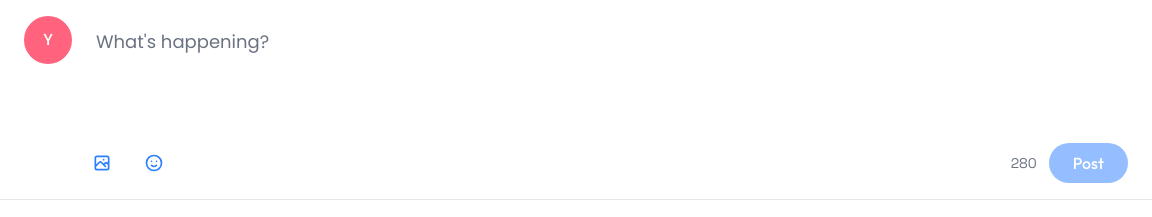
ComposePost Component › shows correct character count
The width and height of the screenshot is (1152, 217).
Check: the text "280" is shown, box x1=1011 y1=153 x2=1037 y2=173
Note: Type some text
In the text box with placeholder "What's happening?": (606, 70) x1=84 y1=16 x2=1128 y2=124, type "Hello world!"
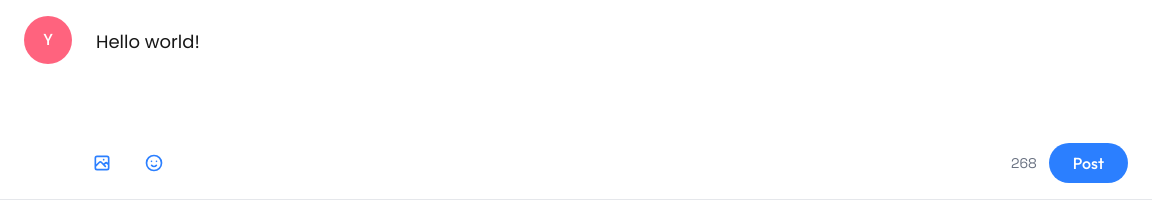
Check: the text "268" is shown, box x1=1011 y1=153 x2=1037 y2=173
